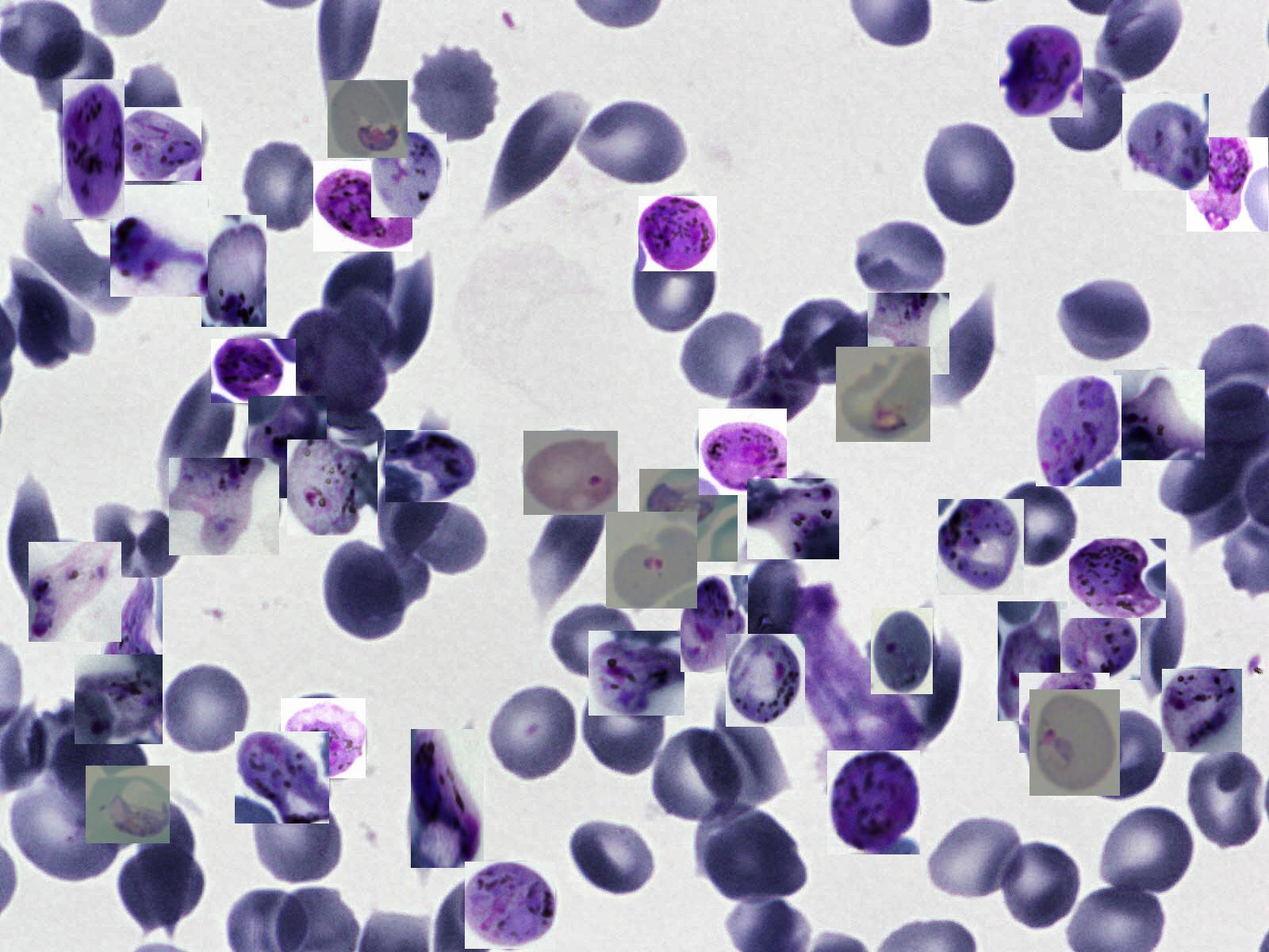Infected: (285, 308, 388, 420), (110, 186, 208, 298), (169, 458, 279, 555), (411, 730, 484, 868), (1029, 689, 1120, 796), (827, 750, 920, 854), (1036, 375, 1121, 486), (639, 469, 738, 562), (29, 542, 121, 642), (836, 347, 930, 442), (313, 161, 412, 251), (606, 512, 697, 608), (287, 440, 378, 536), (63, 79, 125, 219), (235, 731, 329, 823), (998, 601, 1068, 721), (1122, 94, 1209, 190), (938, 499, 1024, 595), (1114, 370, 1205, 460), (588, 631, 684, 716), (248, 396, 327, 498), (523, 431, 618, 515), (75, 654, 163, 744), (465, 862, 555, 949), (999, 25, 1083, 117), (1069, 539, 1166, 618), (734, 333, 821, 421), (1187, 138, 1268, 232), (699, 409, 787, 495), (101, 578, 163, 699), (747, 479, 839, 560), (726, 634, 805, 727), (201, 215, 266, 327), (1019, 673, 1110, 753), (281, 698, 366, 778), (1162, 669, 1242, 752), (385, 430, 477, 502), (868, 293, 949, 374), (681, 575, 748, 672), (86, 766, 170, 843), (371, 132, 447, 217), (328, 80, 408, 158), (120, 108, 201, 182), (638, 196, 717, 271), (1060, 609, 1141, 680), (211, 339, 296, 403), (871, 608, 933, 694)
Uninfected: (13, 774, 117, 881), (496, 93, 584, 203), (629, 235, 721, 338), (578, 677, 668, 781), (251, 791, 347, 888), (158, 661, 253, 758), (1183, 745, 1267, 853), (926, 124, 1014, 227), (58, 718, 154, 812), (649, 727, 743, 820), (708, 694, 787, 804), (324, 544, 413, 641), (415, 47, 500, 148), (1099, 804, 1194, 894), (581, 102, 684, 185), (1162, 437, 1248, 536), (89, 501, 190, 585), (110, 65, 186, 176), (990, 478, 1082, 567), (923, 295, 997, 405), (367, 249, 433, 372), (1075, 709, 1164, 797), (492, 685, 574, 780), (1057, 284, 1154, 364), (852, 219, 950, 298), (1047, 67, 1133, 157), (166, 370, 238, 477), (121, 840, 204, 932), (138, 801, 194, 936), (27, 700, 107, 794), (550, 600, 639, 684), (928, 820, 1025, 897), (996, 843, 1080, 931), (533, 500, 608, 597), (681, 313, 763, 399), (565, 820, 656, 897), (390, 499, 483, 574), (34, 27, 113, 114), (707, 832, 807, 900), (781, 301, 869, 378), (1133, 582, 1187, 703), (244, 143, 317, 232), (298, 405, 389, 476), (736, 560, 799, 662), (344, 544, 430, 618), (327, 248, 393, 332)
